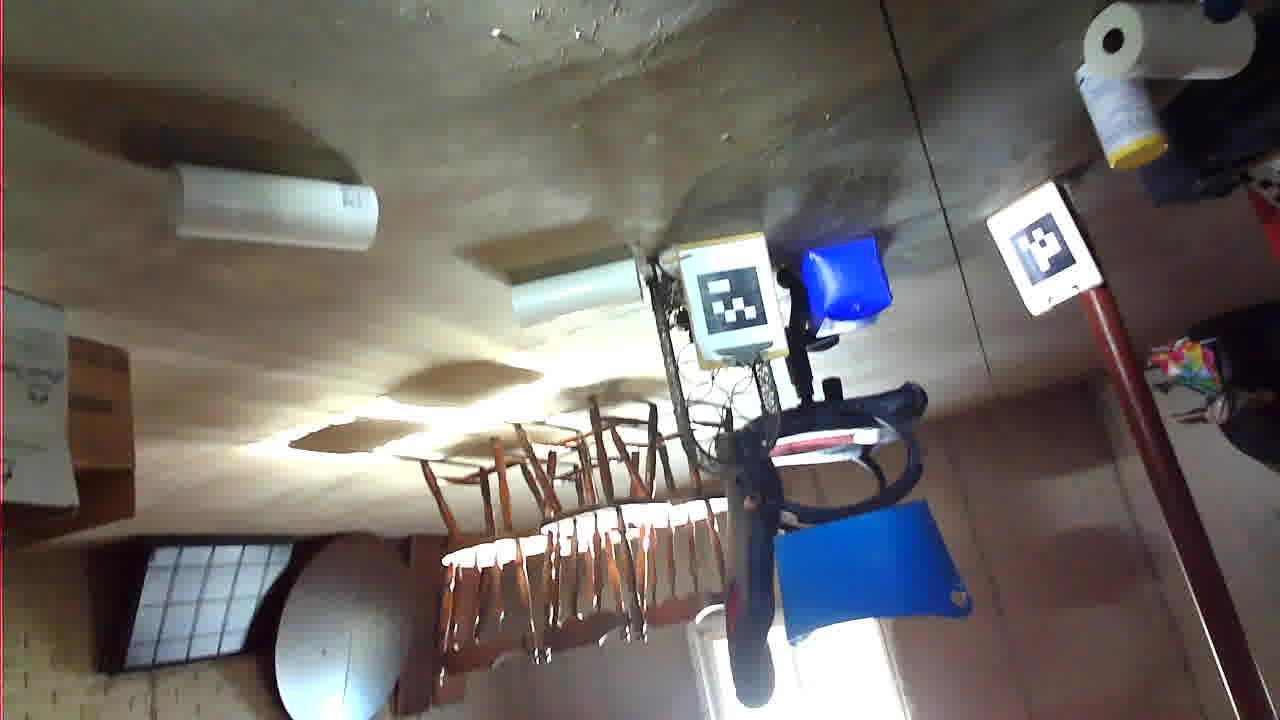coral: (905, 467, 1107, 553), (637, 395, 765, 461)
